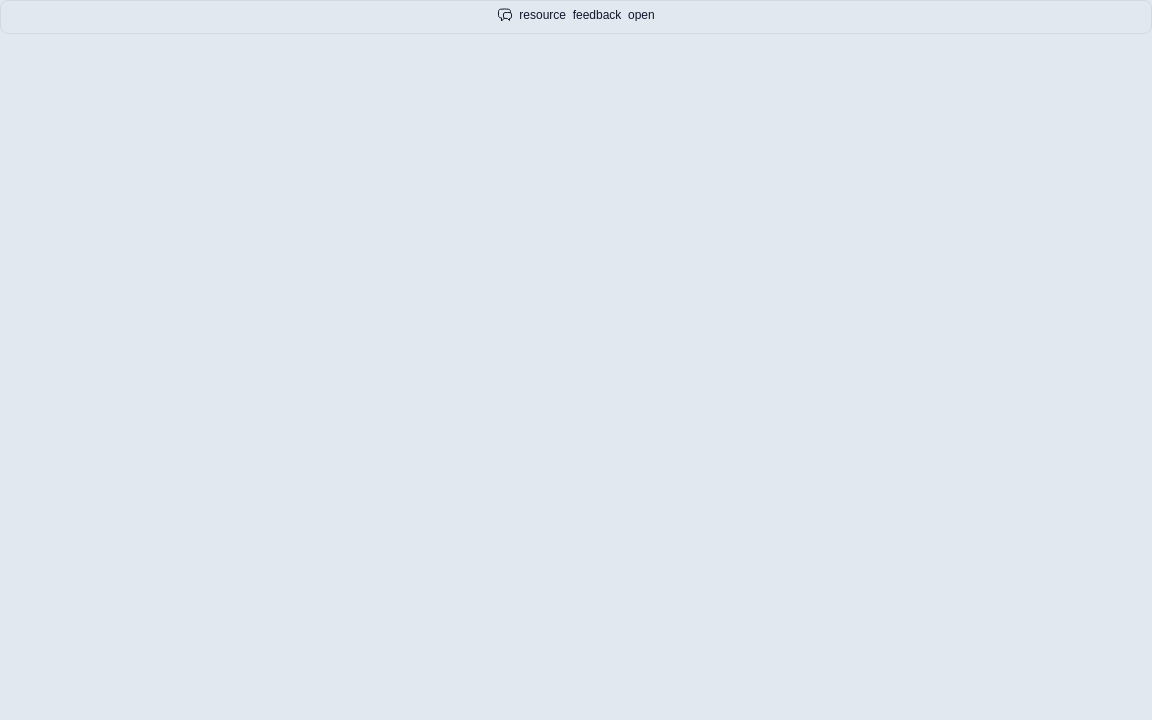
Test case: loads contributor information only after the detail action is opened
Click the button "resource_feedback_open": (576, 17) [0,0,1151,34]
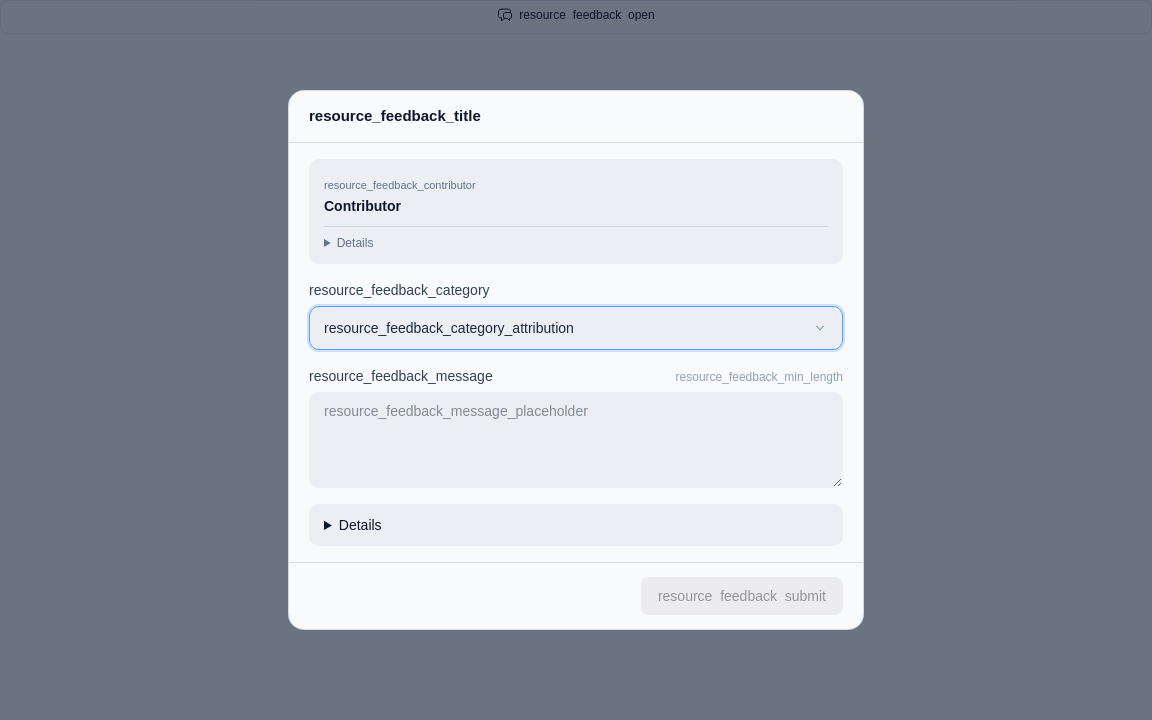
Result: the text "Contributor" is shown at [324,198,401,214]
